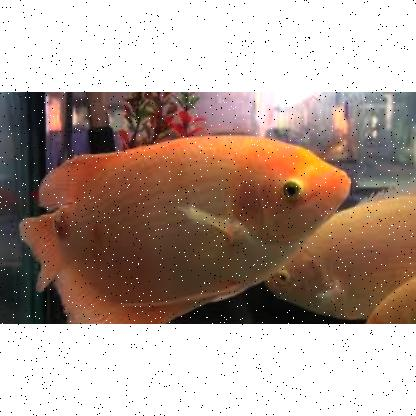gurame: (20, 134, 350, 323)
